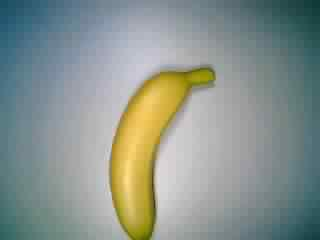banana: (107, 57, 219, 237)
